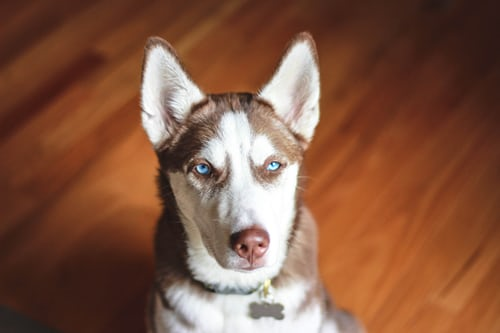husky: (116, 16, 338, 312)
